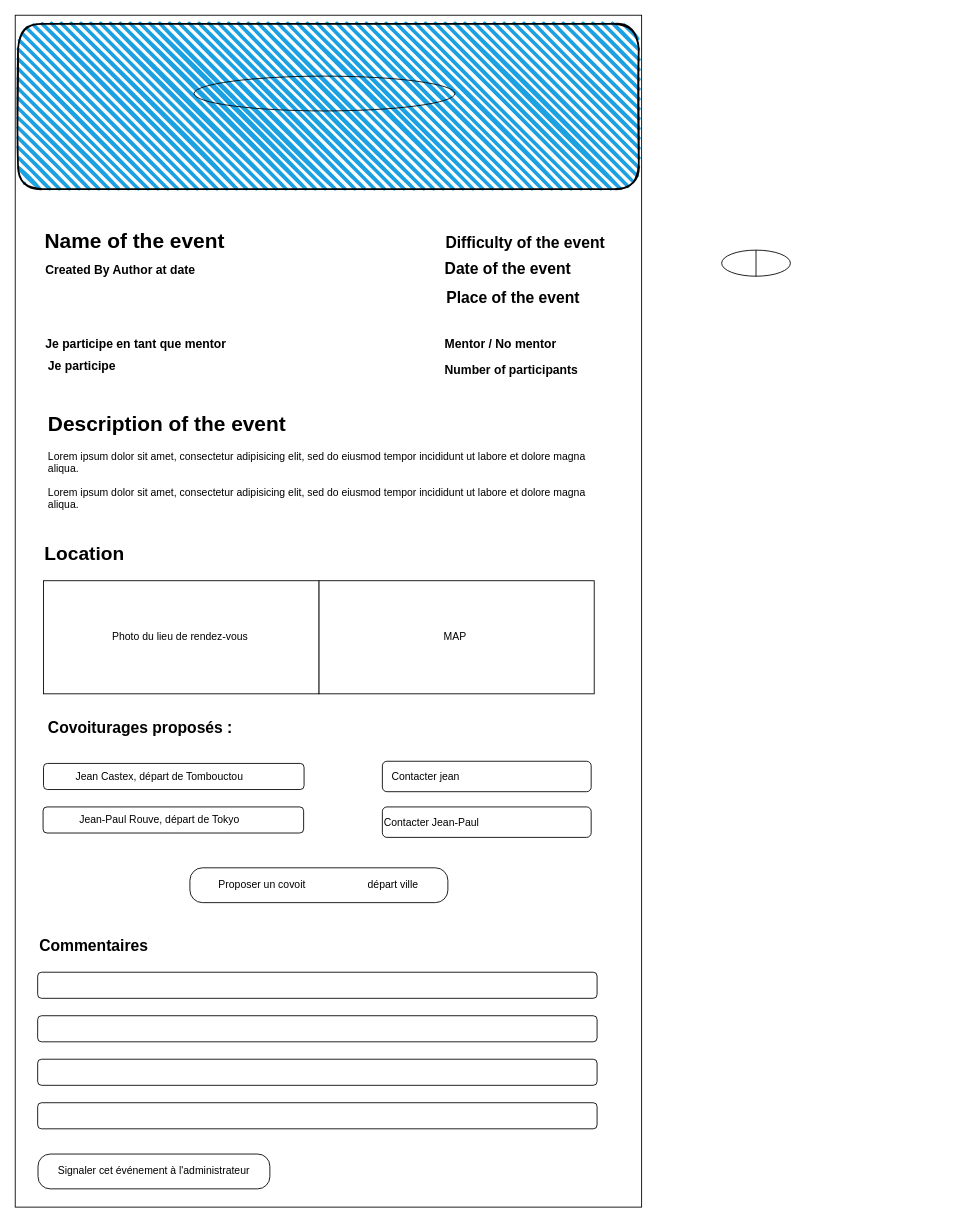
Some shapes in this 963 by 1222 pixel diagram are drawn without their labels. The centre of each missing label's shape, as x and y in pixels:
"HEADER - PHOTO" goes at (324,93).
"yes no" goes at (755,262).
